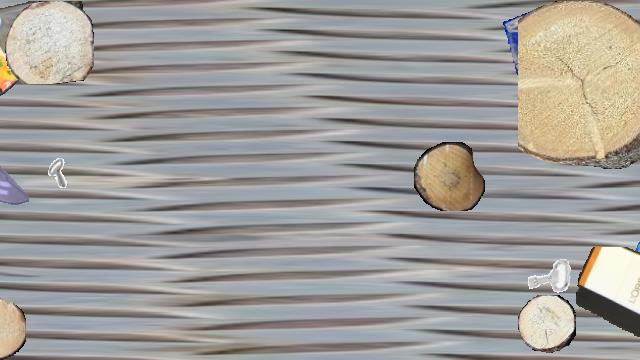glass: (503, 1, 595, 93), (0, 144, 29, 212), (620, 240, 640, 300)
metal: (575, 93, 633, 151), (522, 248, 578, 304), (23, 153, 69, 199)
plastic: (0, 1, 88, 101), (576, 247, 640, 359)
wood: (518, 1, 640, 169), (5, 1, 93, 83), (414, 142, 484, 210), (518, 295, 576, 353), (0, 297, 26, 359)
